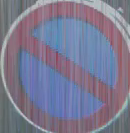No waiting: (7, 3, 124, 129)
